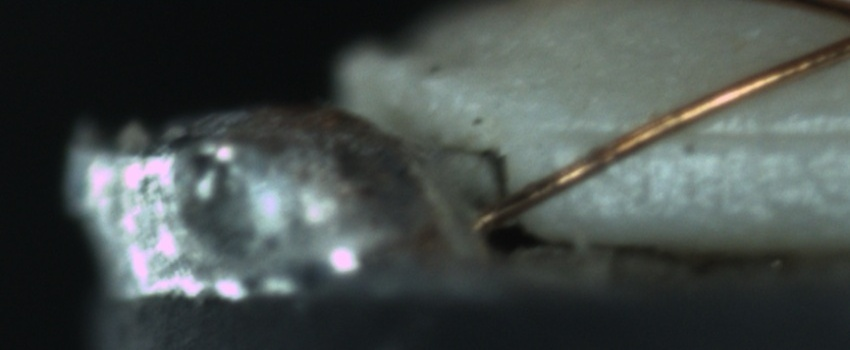DL: (542, 101, 847, 164)
